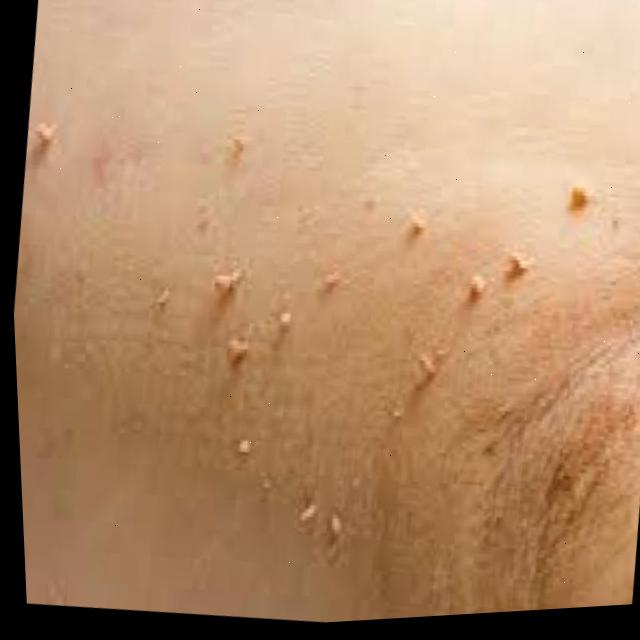Eczema: (122, 102, 589, 562)
